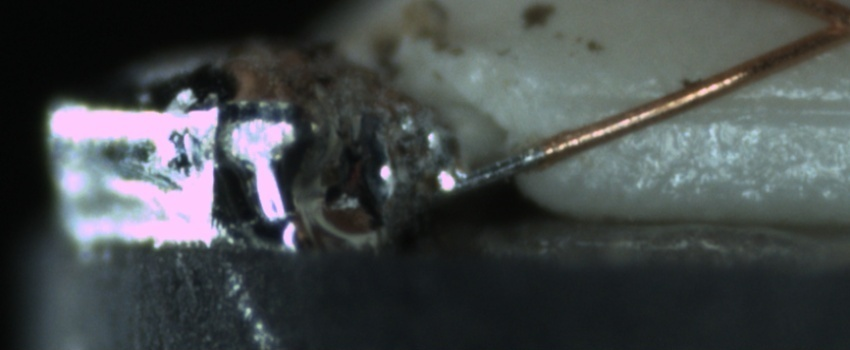DL: (556, 67, 846, 137)
TS: (448, 146, 544, 194)
